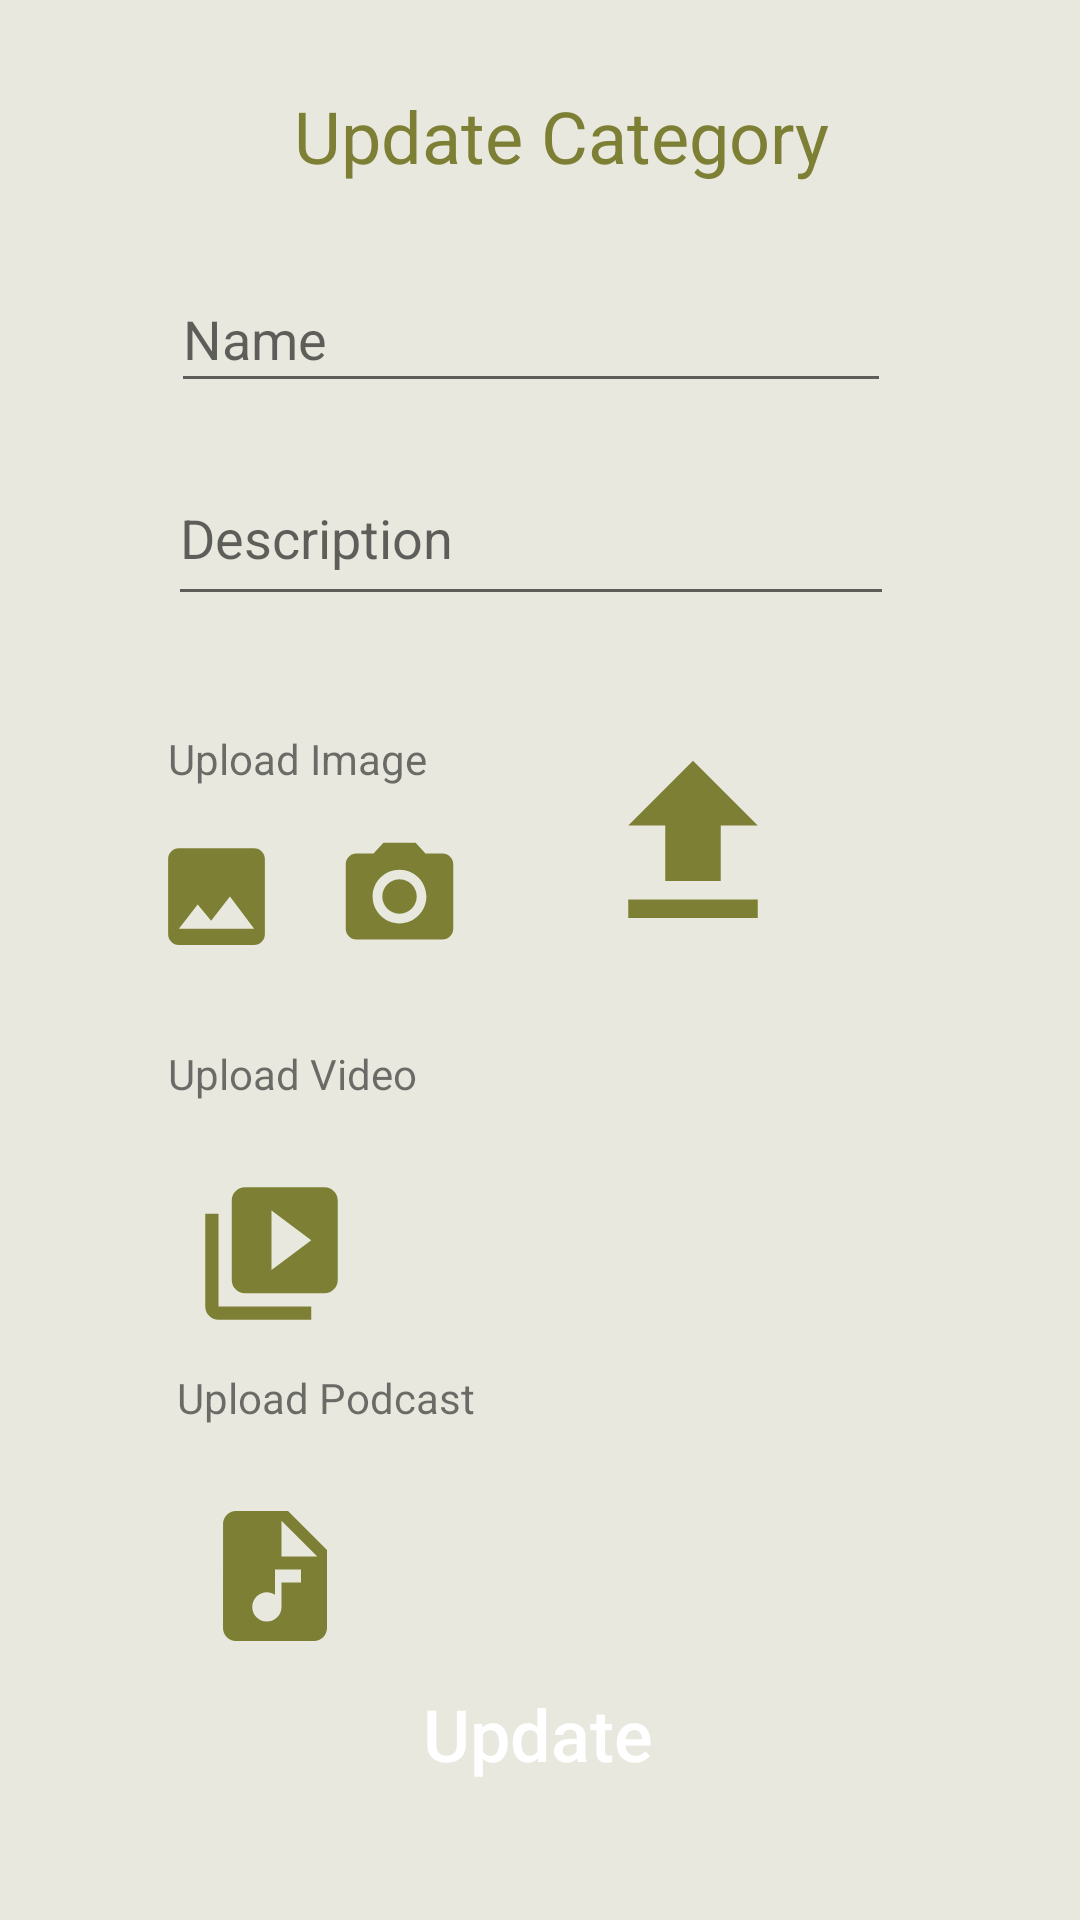

Point at icon controls on the screen. Image size 1080 × 1920, points as point (x, y).
audio: point (275, 1576)
camera: point (399, 891)
file upload: point (693, 839)
